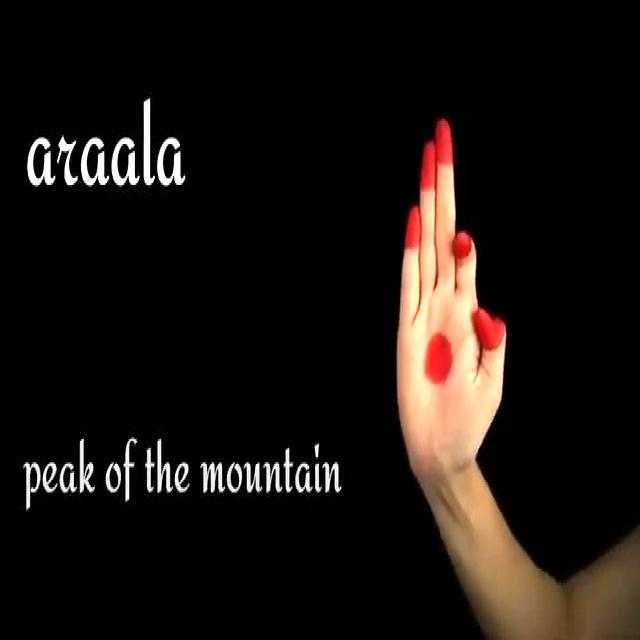Arala: (370, 103, 531, 499)
text: (16, 436, 344, 509), (20, 87, 203, 202)
